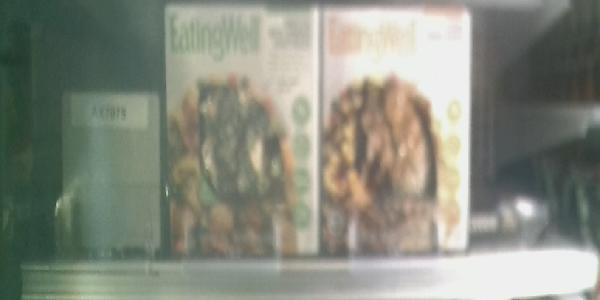pizza1: (163, 1, 326, 259), (323, 6, 468, 257)
